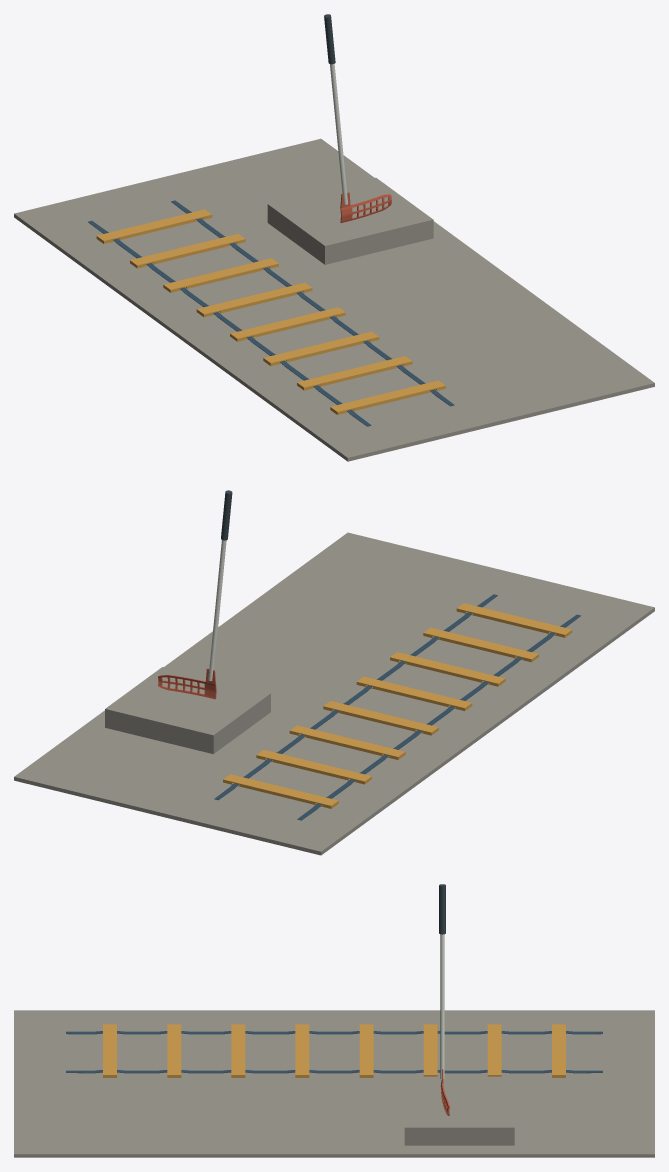
The picture shows the model from 3 angles, top to bottom: view 1: azimuth 30°, elevation 25°; view 2: azimuth 150°, elevation 25°; view 3: azimuth 270°, elevation 25°; orthographic projection. The views are drawn at different scales.
Parts seen in each view (by area): view 1: SceneWholeLongFloorAndRaisedSidePlinth, WholeLeftContinuousWebbing, WholeRightContinuousWebbing, WholeTwinSlottedFlatRung08, WholeTwinSlottedFlatRung01, WholeTwinSlottedFlatRung02, WholeTwinSlottedFlatRung03, WholeTwinSlottedFlatRung04, WholeTwinSlottedFlatRung05, WholeTwinSlottedFlatRung06, WholeTwinSlottedFlatRung07, WholeCuppedTwelveWindowBladeAndHeelNeck (+1 smaller); view 2: SceneWholeLongFloorAndRaisedSidePlinth, WholeLeftContinuousWebbing, WholeRightContinuousWebbing, WholeTwinSlottedFlatRung06, WholeTwinSlottedFlatRung01, WholeTwinSlottedFlatRung04, WholeTwinSlottedFlatRung05, WholeTwinSlottedFlatRung08, WholeTwinSlottedFlatRung02, WholeTwinSlottedFlatRung07, WholeTwinSlottedFlatRung03, WholeCuppedTwelveWindowBladeAndHeelNeck (+1 smaller); view 3: SceneWholeLongFloorAndRaisedSidePlinth, WholeLeftContinuousWebbing, WholeRightContinuousWebbing, WholeTwinSlottedFlatRung02, WholeTwinSlottedFlatRung03, WholeTwinSlottedFlatRung04, WholeTwinSlottedFlatRung05, WholeTwinSlottedFlatRung06, WholeTwinSlottedFlatRung07, WholeTwinSlottedFlatRung01, WholeTwinSlottedFlatRung08, WholeLongRoundInclinedShaft.
Boxes of the visible parts, x1,y1,x2,y2 form: SceneWholeLongFloorAndRaisedSidePlinth: (14,138,654,461); WholeLeftContinuousWebbing: (88,220,371,426); WholeRightContinuousWebbing: (171,200,454,406); WholeTwinSlottedFlatRung08: (96,209,212,243); WholeTwinSlottedFlatRung01: (330,380,445,414); WholeTwinSlottedFlatRung02: (297,356,412,390); WholeTwinSlottedFlatRung03: (263,331,379,365); WholeTwinSlottedFlatRung04: (230,307,345,341); WholeTwinSlottedFlatRung05: (196,282,312,317); WholeTwinSlottedFlatRung06: (163,258,278,292); WholeTwinSlottedFlatRung07: (130,234,245,268); WholeCuppedTwelveWindowBladeAndHeelNeck: (340,192,391,222); SceneWholeLongFloorAndRaisedSidePlinth: (14,532,654,855); WholeLeftContinuousWebbing: (297,614,580,820); WholeRightContinuousWebbing: (214,594,497,800); WholeTwinSlottedFlatRung06: (289,725,405,759); WholeTwinSlottedFlatRung01: (456,603,572,637); WholeTwinSlottedFlatRung04: (356,676,472,710); WholeTwinSlottedFlatRung05: (323,701,438,735); WholeTwinSlottedFlatRung08: (223,774,338,808); WholeTwinSlottedFlatRung02: (423,627,538,662); WholeTwinSlottedFlatRung07: (256,750,371,784); WholeTwinSlottedFlatRung03: (390,652,505,686); WholeCuppedTwelveWindowBladeAndHeelNeck: (158,668,216,699); SceneWholeLongFloorAndRaisedSidePlinth: (14,1010,654,1157); WholeLeftContinuousWebbing: (66,1031,602,1034); WholeRightContinuousWebbing: (66,1070,602,1073); WholeTwinSlottedFlatRung02: (167,1024,181,1077); WholeTwinSlottedFlatRung03: (231,1024,245,1077); WholeTwinSlottedFlatRung04: (295,1024,309,1077); WholeTwinSlottedFlatRung05: (359,1024,373,1077); WholeTwinSlottedFlatRung06: (423,1024,437,1076); WholeTwinSlottedFlatRung07: (487,1024,501,1076); WholeTwinSlottedFlatRung01: (103,1024,116,1077); WholeTwinSlottedFlatRung08: (552,1024,565,1077); WholeLongRoundInclinedShaft: (440,934,444,1079).
Size of the model in its own units: 1.7 by 1.23 by 3.2.
